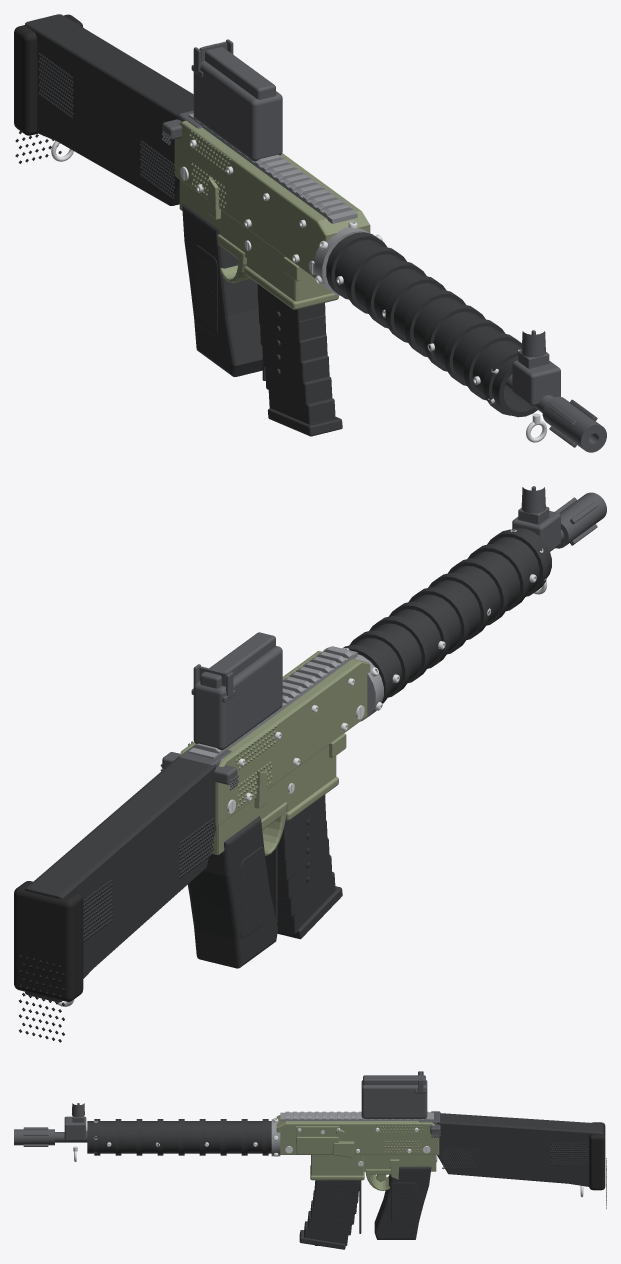
3 renders of one model, top to bottom at view 1: azimuth 30°, elevation 25°; view 2: azimuth 150°, elevation 25°; view 3: azimuth 270°, elevation 25°, orthographic. The views are drawn at different scales.
Parts seen in each view (by area): view 1: carry-handle-rifle, magazine/polymerBlack, charge; view 2: carry-handle-rifle, magazine/polymerBlack, charge; view 3: carry-handle-rifle, magazine/polymerBlack, charge.
Part boxes in pixels (x1=…): carry-handle-rifle: x1=14, y1=14, x2=606, y2=452; magazine/polymerBlack: x1=257, y1=283, x2=342, y2=436; charge: x1=161, y1=110, x2=202, y2=145; carry-handle-rifle: x1=14, y1=486, x2=606, y2=1042; magazine/polymerBlack: x1=265, y1=794, x2=342, y2=939; charge: x1=160, y1=746, x2=238, y2=790; carry-handle-rifle: x1=14, y1=1071, x2=606, y2=1239; magazine/polymerBlack: x1=299, y1=1180, x2=361, y2=1249; charge: x1=419, y1=1111, x2=440, y2=1137.
Bounding box in the file's own units: 0.0592 × 0.2564 × 0.8103.
